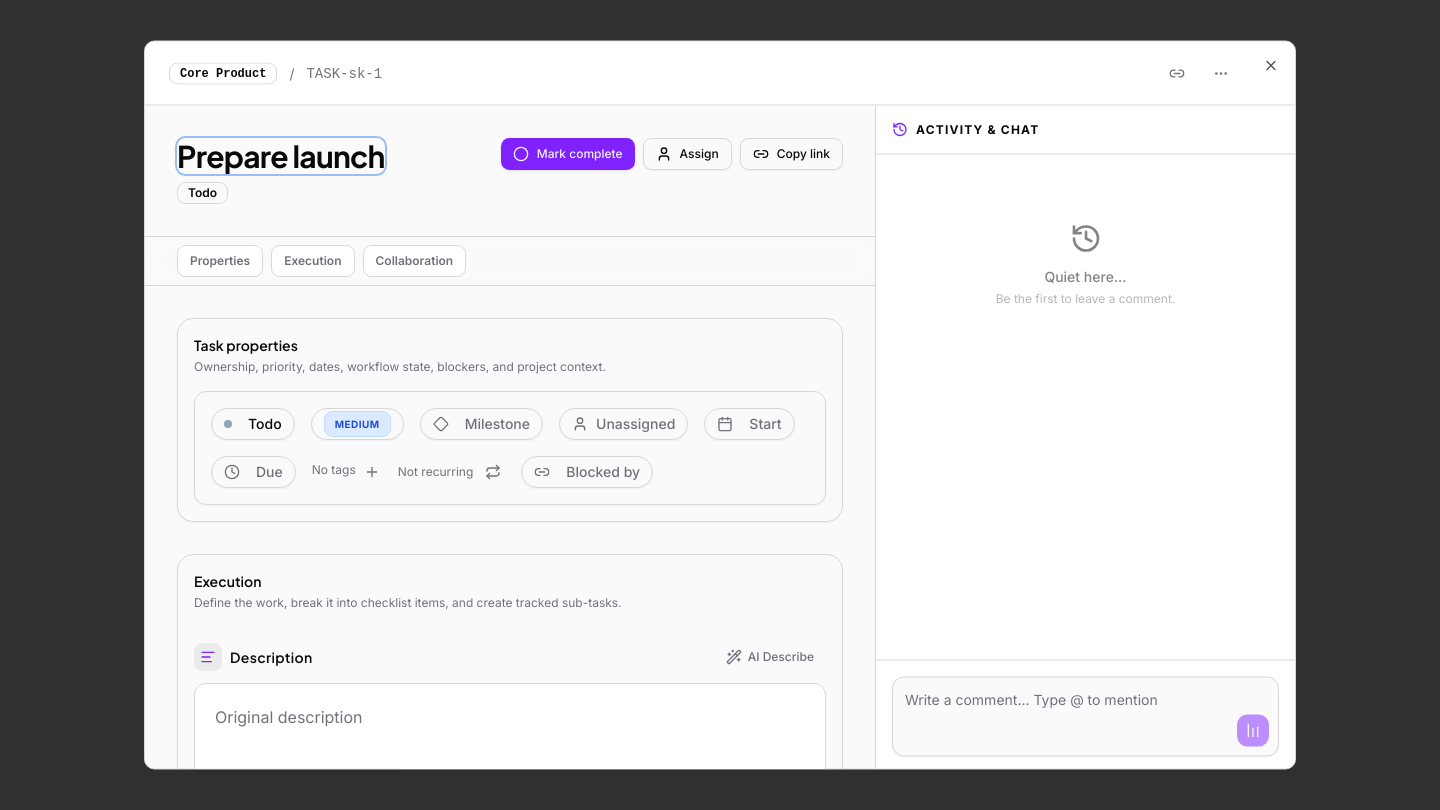
Test: TaskDetailsModal › previews AI descriptions before inserting them
The image size is (1440, 810).
expect the button "Prepare launch" is shown: met, box [177,138,385,174]
Click the button "AI Describe": (770, 656) [714,642,826,670]
(page scrolled)
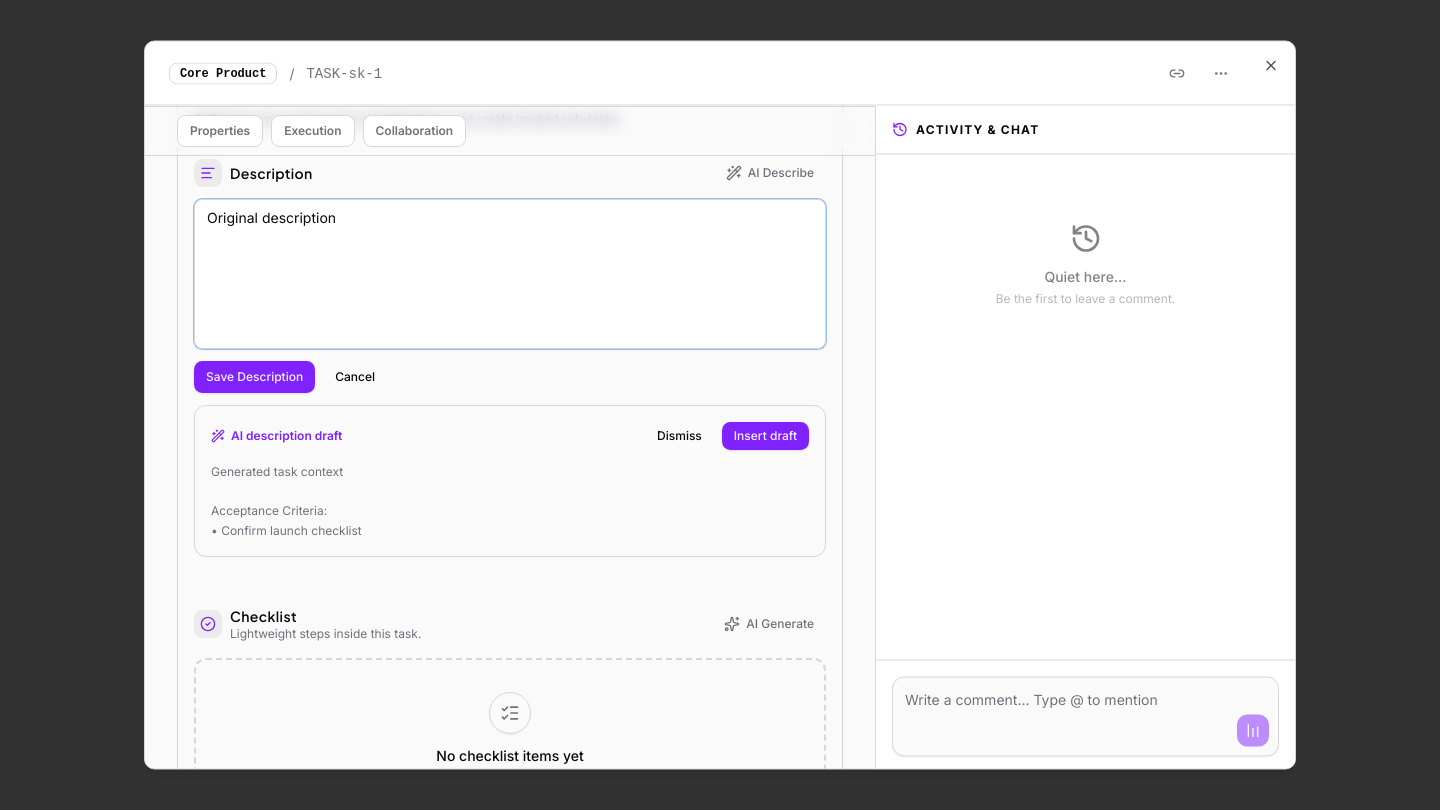
expect the text "AI description draft" is shown: met, box [211,428,342,444]
expect the text "Generated task context" is shown: met, box [211,464,362,538]
expect the text box showing "Original description" is shown: met, box [194,200,826,350]
Click the button "Insert draft": (765, 436) [722,422,809,450]
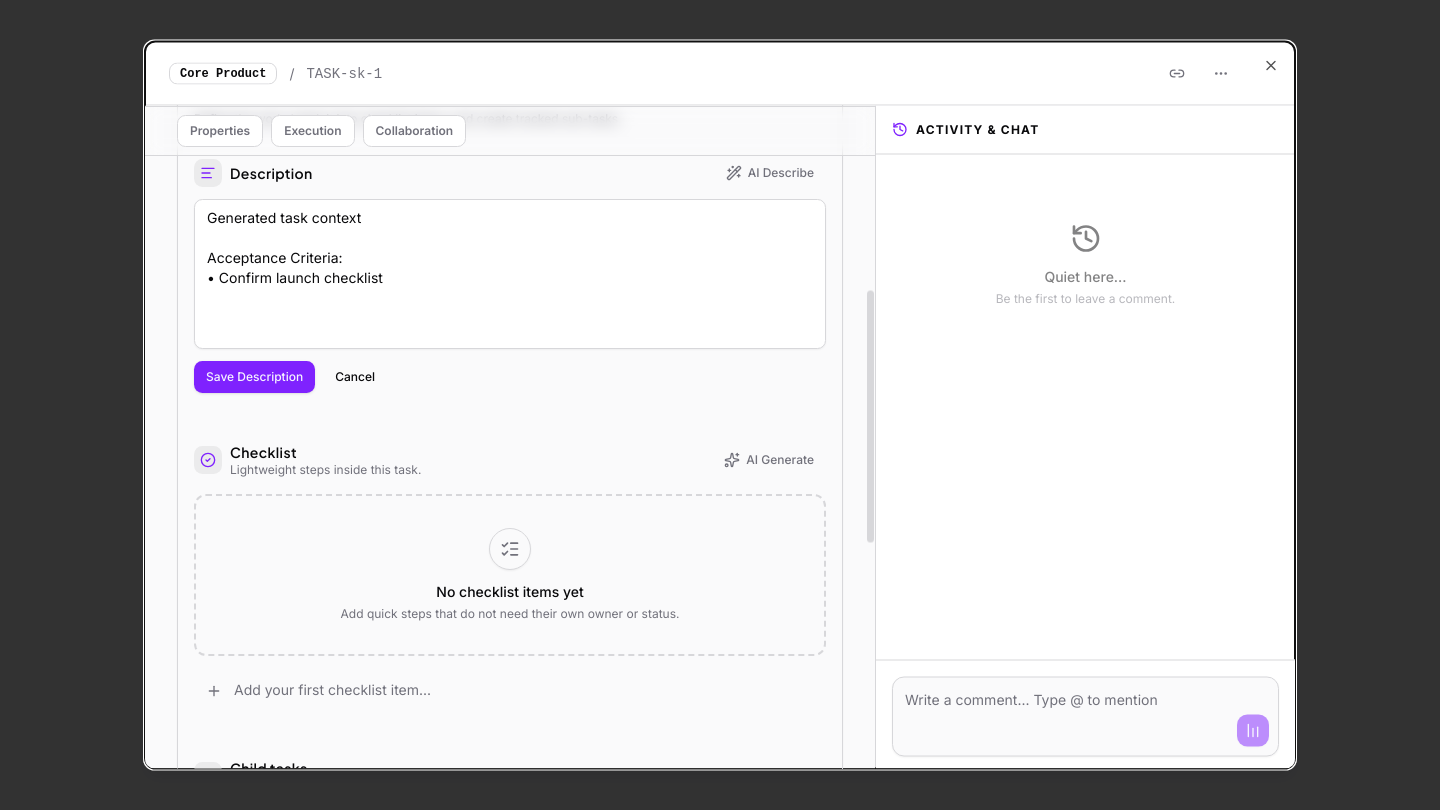
expect the text box showing "Generated task context" is shown: met, box [194,200,826,350]
